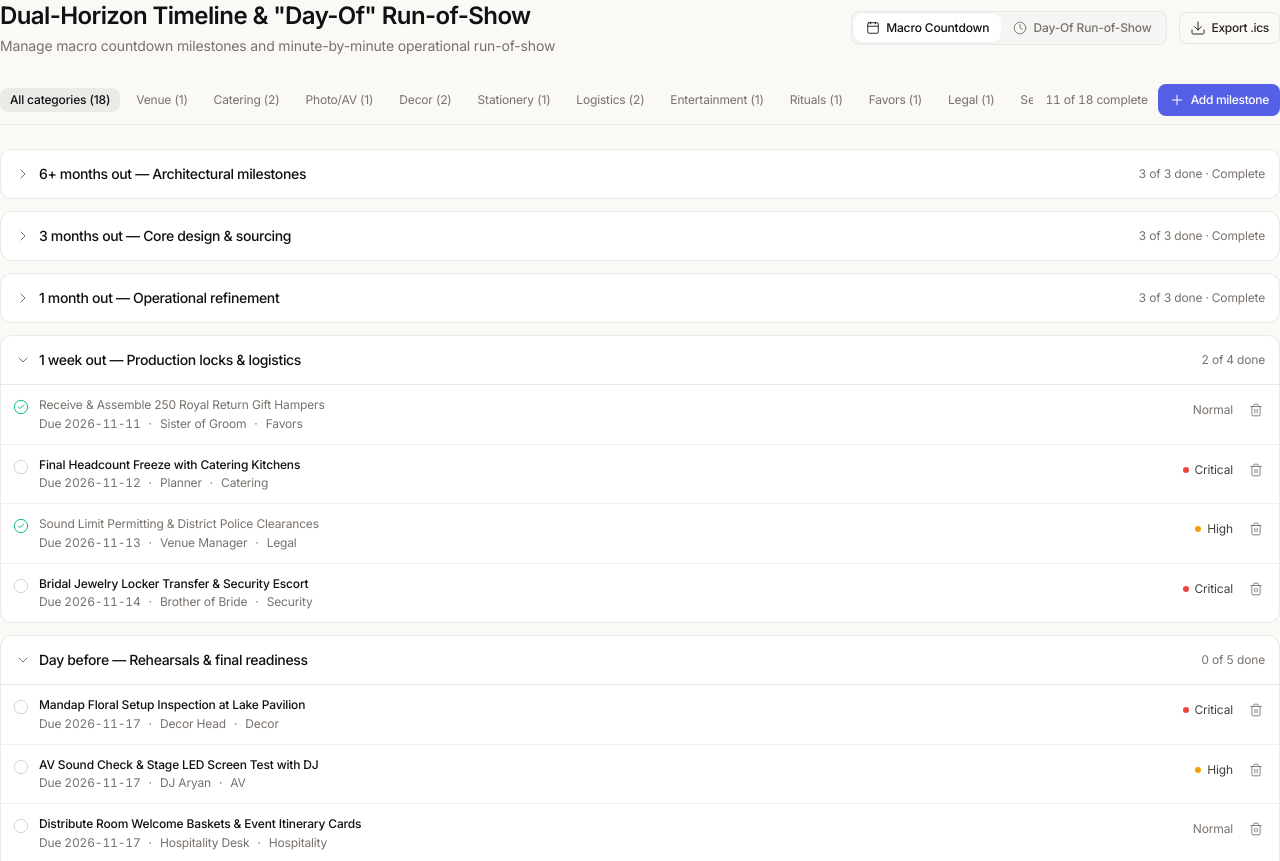
Scenario: User Input CRUD: Timeline Tasks, Activities & Event Parameters › renders Add Milestone and Add Activity buttons in TimelineTab
The width and height of the screenshot is (1280, 861).
Click the button "Add milestone" at (1219, 100), box [1158, 84, 1279, 116]
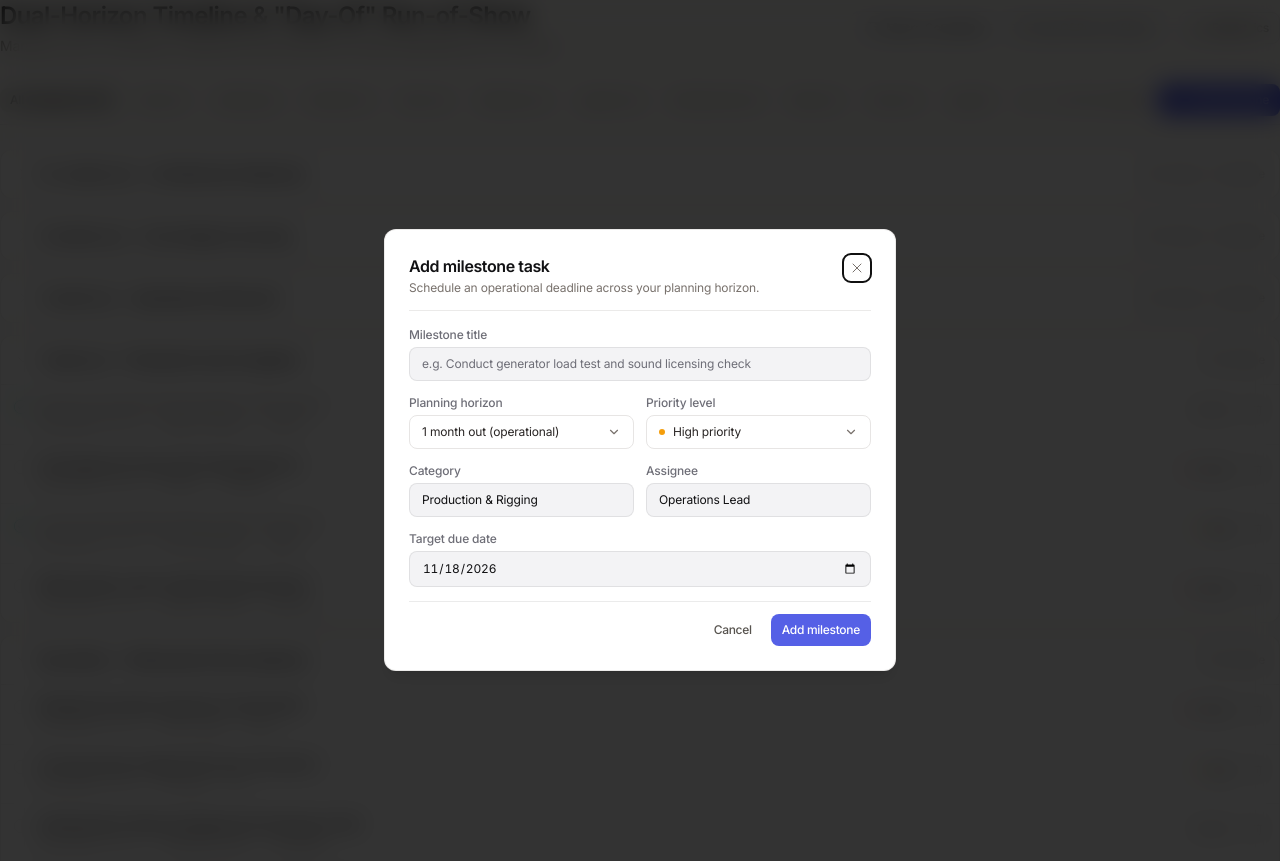
Check: the heading "Add milestone task" is shown, box [409, 256, 550, 276]
Click the button "Cancel" at (733, 630), box [703, 614, 763, 646]
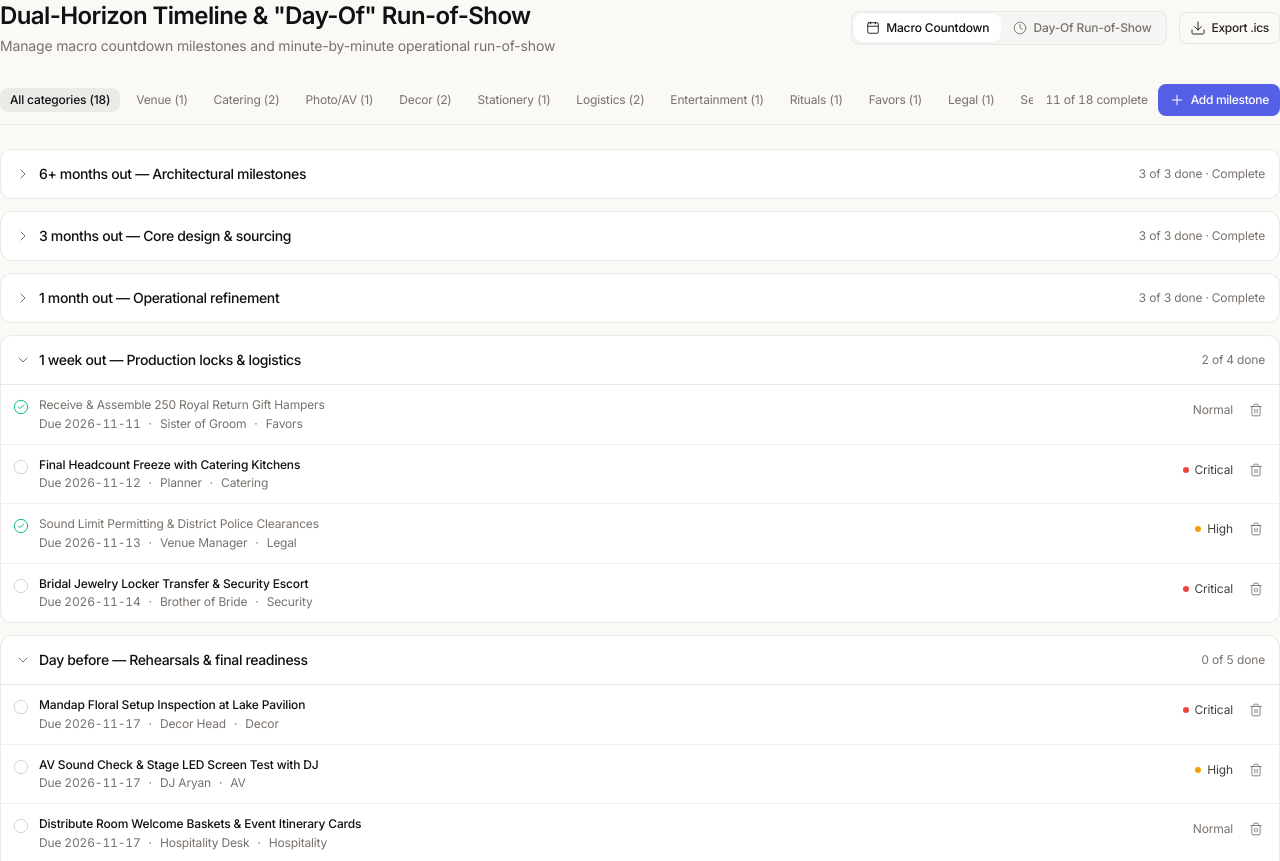
Click the button "Day-Of Run-of-Show" at (1082, 28), box [1001, 14, 1164, 42]
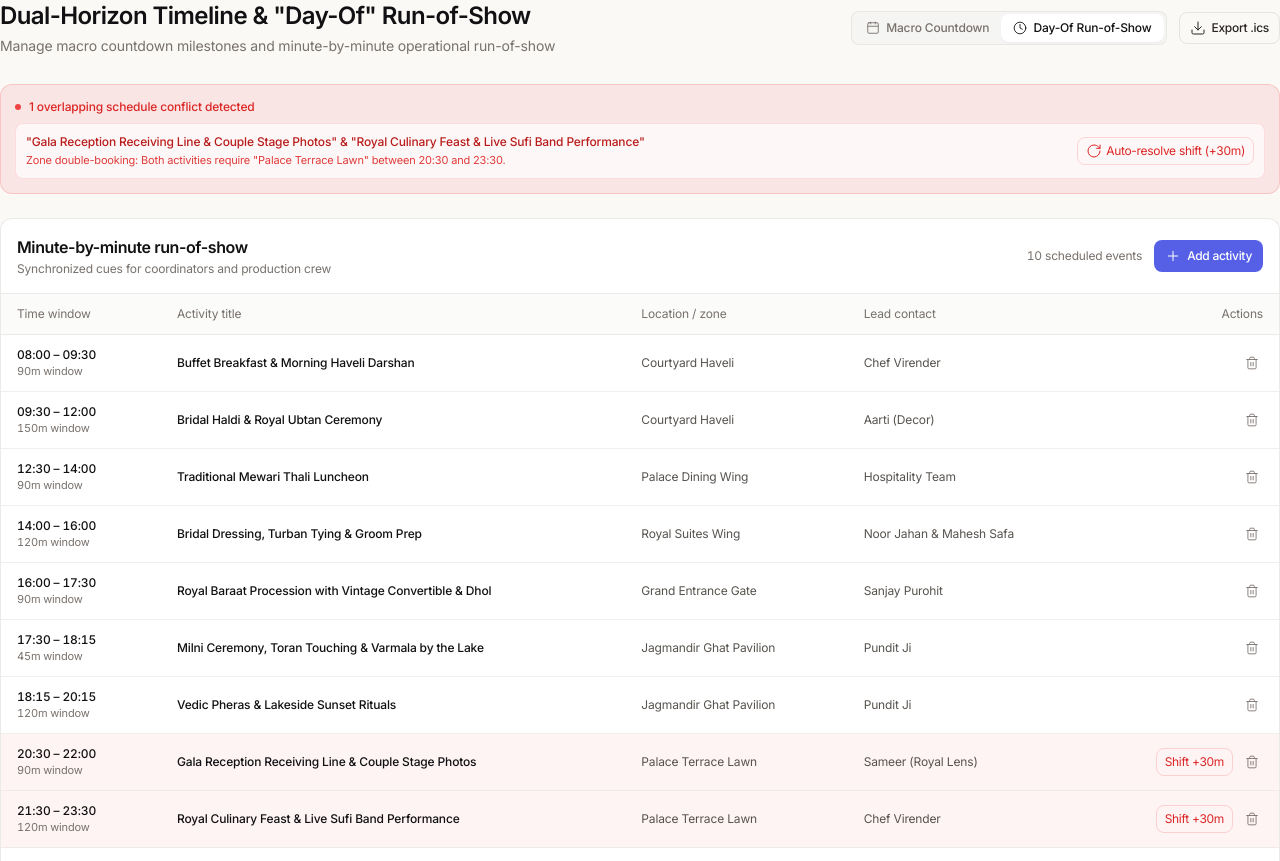
Check: the button "Add activity" is shown
Click the button "Add activity" at (1209, 256), box [1154, 240, 1263, 272]
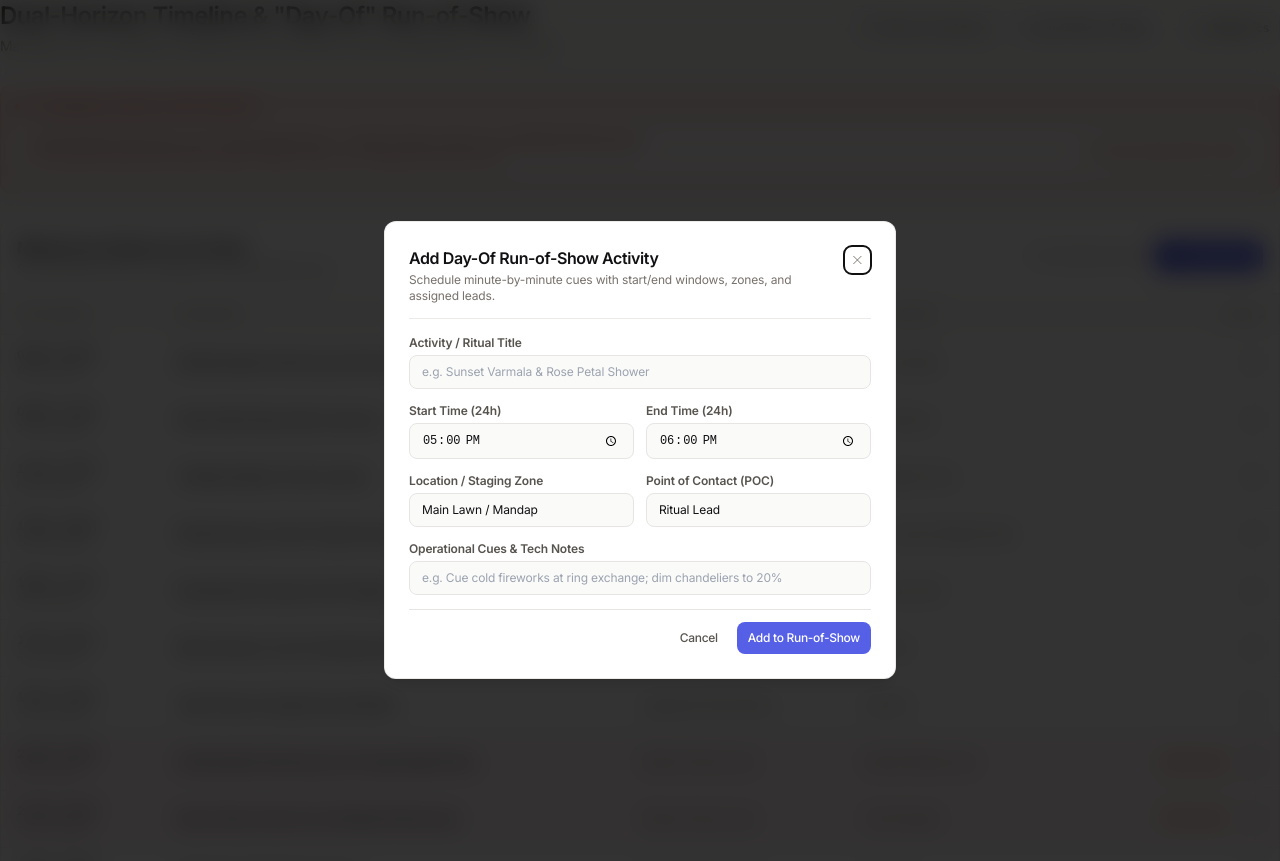
Check: the heading "Add Day-Of Run-of-Show Activity" is shown, box [409, 248, 658, 268]
